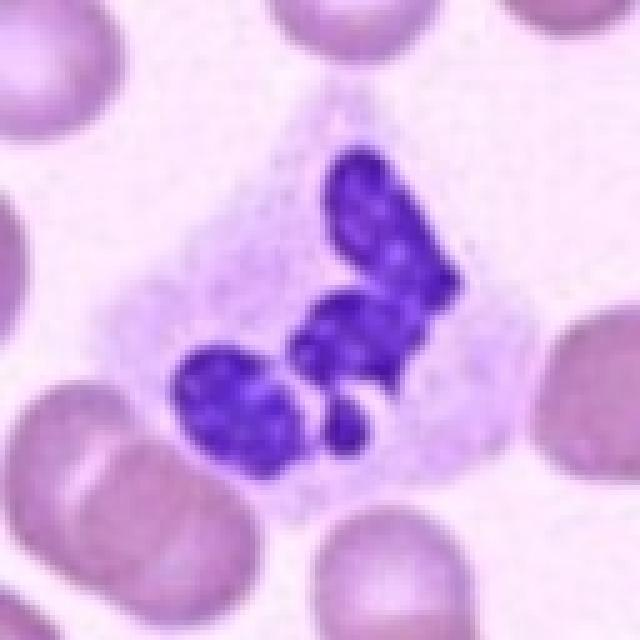neutro: (39, 90, 555, 538)
